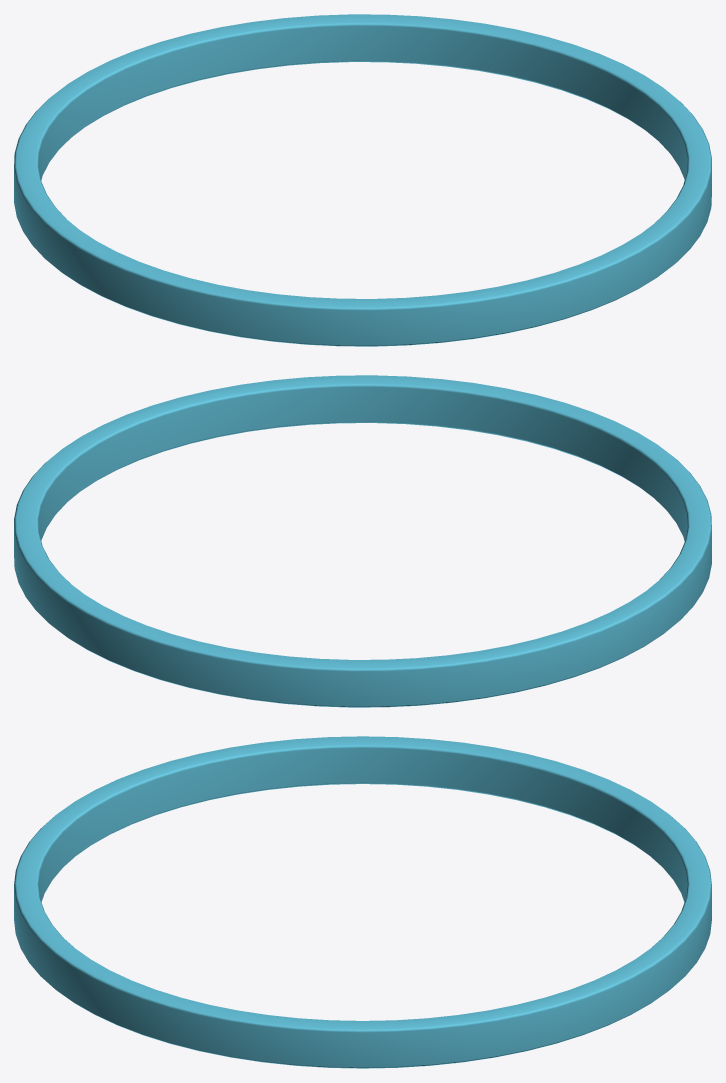
3 views of the same model, one above another, from view 1: azimuth 30°, elevation 25°; view 2: azimuth 150°, elevation 25°; view 3: azimuth 270°, elevation 25° (orthographic).
Visible parts, largest first — view 1: seal_body; view 2: seal_body; view 3: seal_body.
Boxes of the visible parts, bbox=[...] form: seal_body: bbox=[14, 14, 711, 346]; seal_body: bbox=[14, 375, 711, 707]; seal_body: bbox=[14, 736, 711, 1068].
Size of the model in its own units: 0.1603 by 0.01 by 0.1603.
